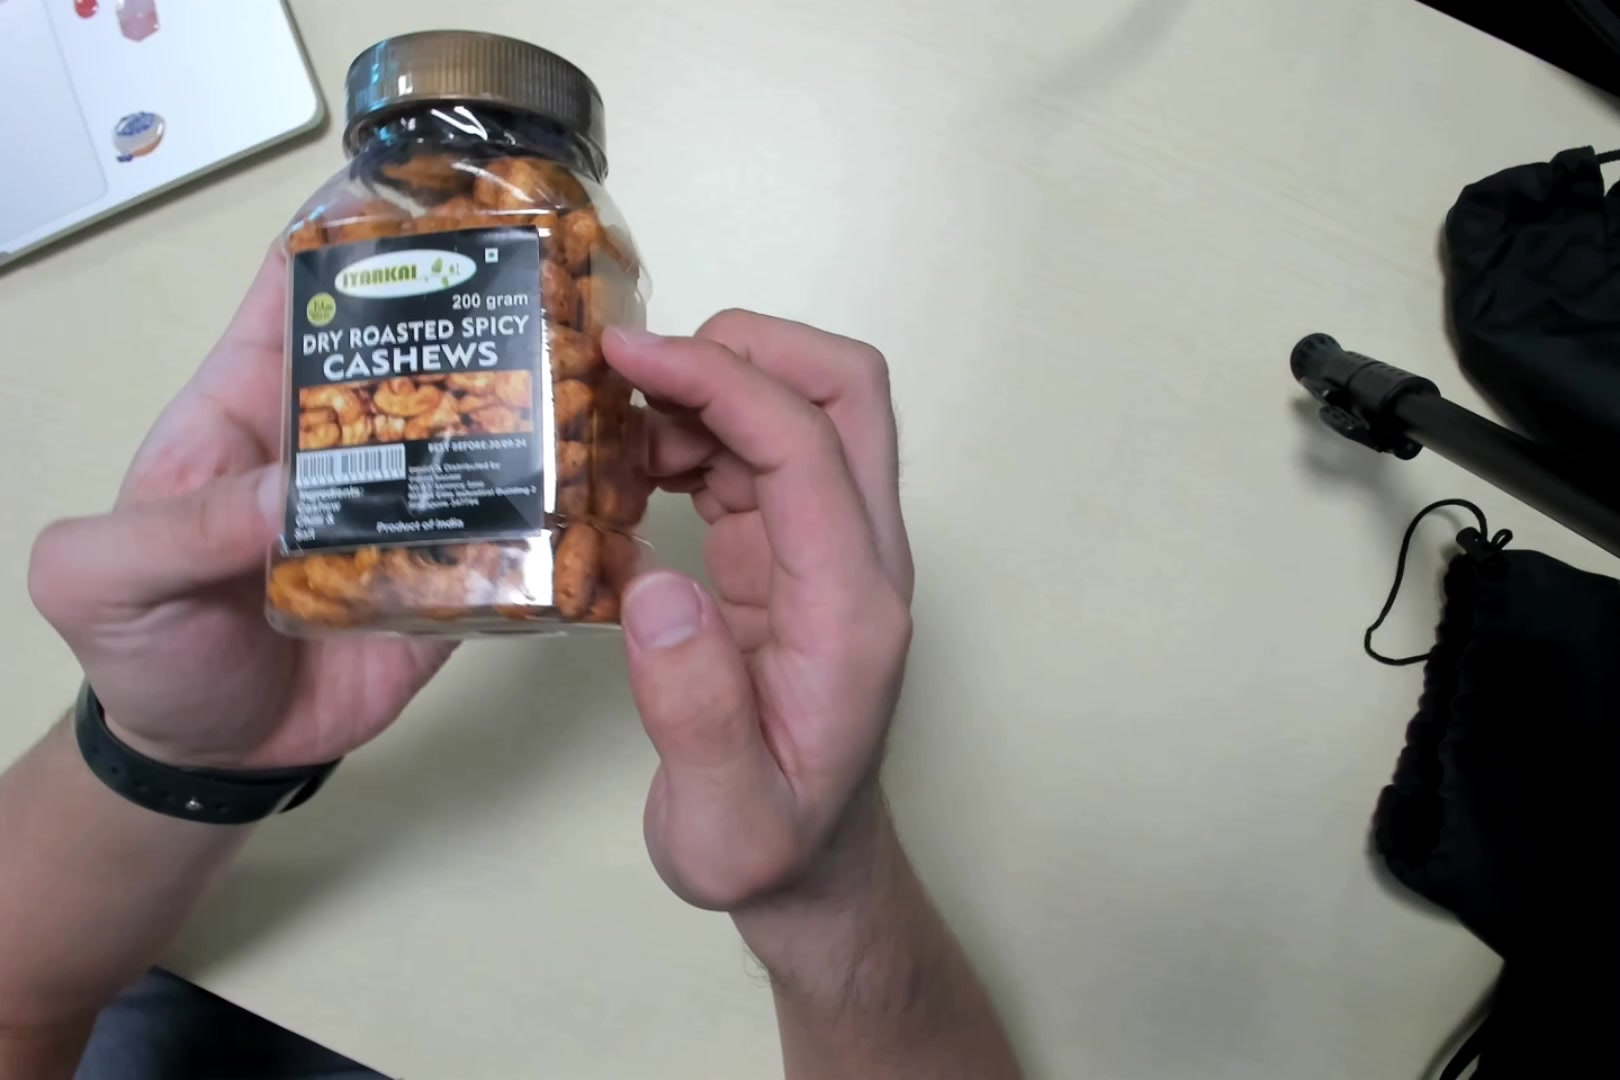Nuts_200-299g_NonHalal_NonHealthy: (278, 35, 659, 639)
